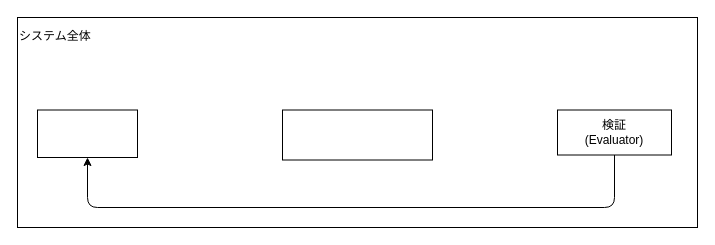
Some shapes in this 715 by 245 pixel diagram are drawn without their labels. The centre of each missing label's shape, as x and y in pixels:
"実行プログラム作成 (Coder)" belongs at pixel 357 134.
"新規手法の作成 (Creator)" belongs at pixel 87 133.
